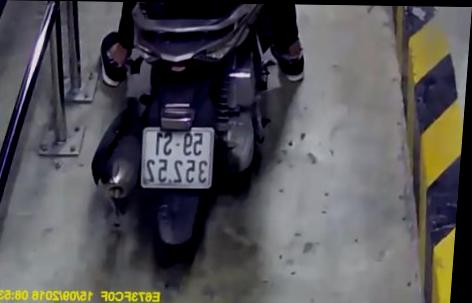License_Plate: (133, 122, 226, 198)
